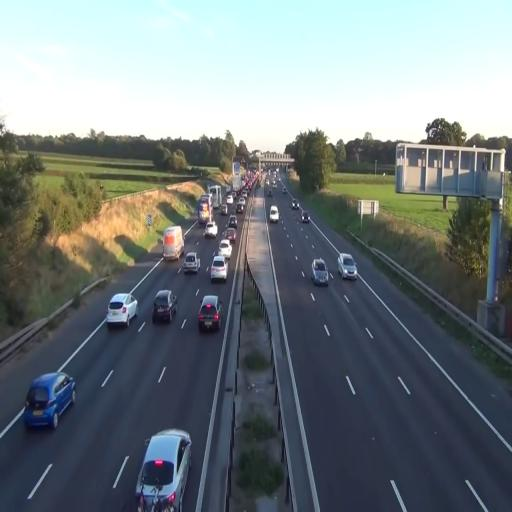vehicle: (135, 428, 192, 512), (24, 370, 76, 431), (107, 292, 138, 329), (198, 295, 222, 333), (152, 289, 176, 325), (162, 226, 184, 263), (338, 253, 357, 280), (312, 258, 330, 286), (210, 255, 228, 283), (181, 251, 200, 276), (205, 220, 218, 239), (270, 204, 280, 223), (300, 213, 310, 223)
